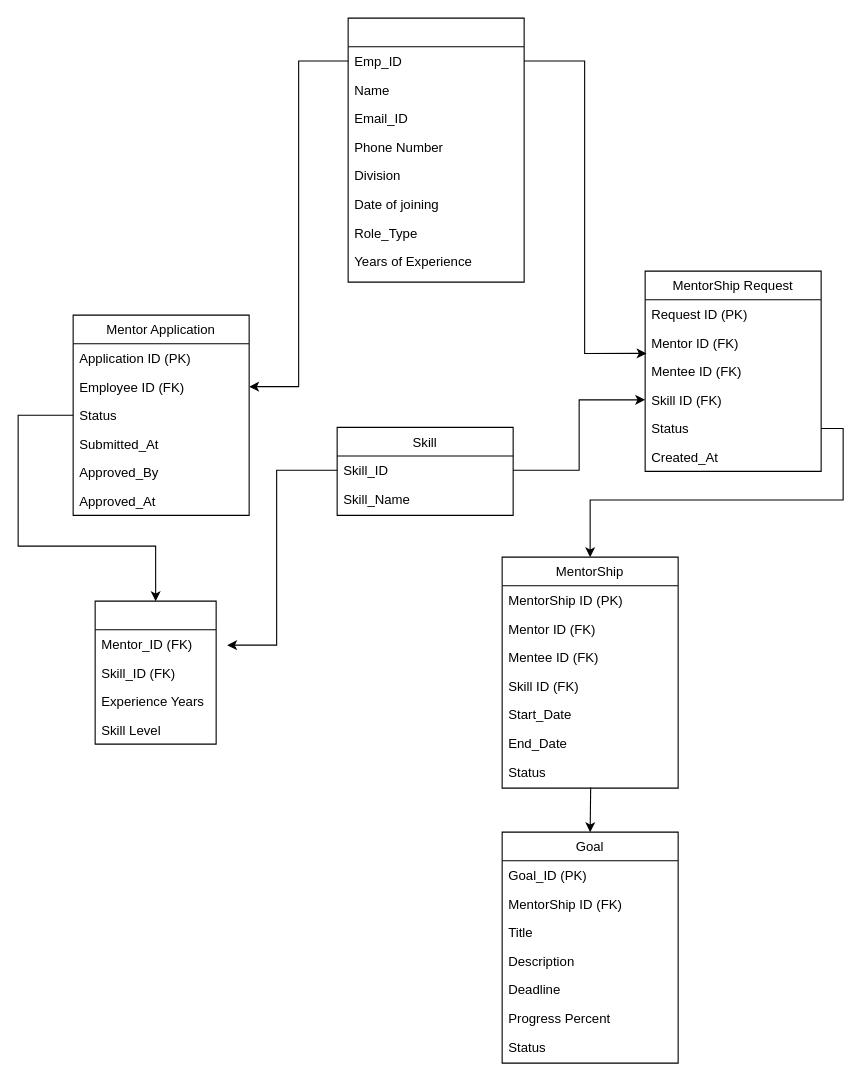
This 861x1081 diagram has some shape labels left out. The shapes that lost their labels are listed below. From the top down, each one's box as (x1, y1, x2, y2) in pixels, then its label:
(347, 17, 524, 282): Employee
(94, 600, 216, 744): Mentor Skill
